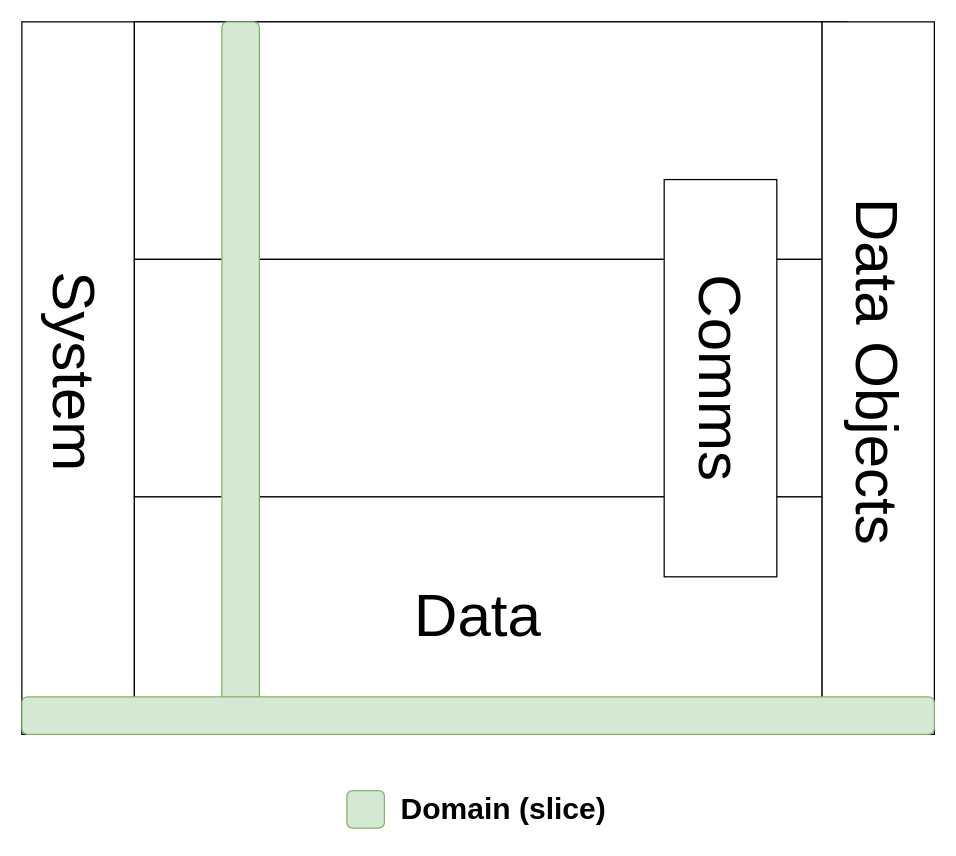
This 956x856 diagram has some shape labels left out. The box of each missing label's shape, as (x1, y1, x2, y2) in pixels:
Presentation: (133, 21, 822, 259)
Processing: (133, 258, 822, 497)
